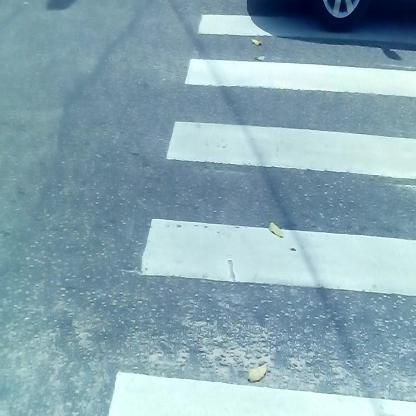crosswalk: (149, 11, 412, 416)
